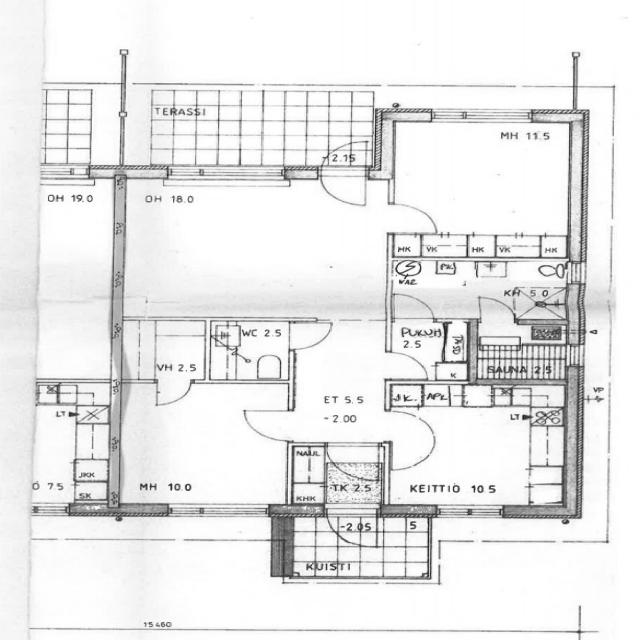door: (317, 154, 369, 208), (382, 200, 442, 236), (239, 406, 294, 442), (382, 408, 436, 442), (286, 319, 335, 352), (387, 291, 436, 323), (382, 349, 427, 382), (472, 295, 518, 325), (151, 379, 194, 408), (330, 519, 364, 546)
window: (163, 164, 286, 192), (160, 501, 273, 521), (436, 107, 535, 125), (41, 163, 97, 188), (433, 503, 508, 521), (28, 503, 72, 517)
zone: (122, 169, 386, 321), (389, 120, 572, 318), (386, 382, 572, 509), (118, 385, 290, 509), (393, 258, 570, 318), (36, 384, 116, 506), (118, 318, 211, 383), (470, 322, 571, 381), (384, 319, 471, 380), (210, 320, 290, 382), (384, 200, 441, 236), (388, 382, 464, 407), (290, 442, 325, 484), (290, 482, 326, 506), (388, 234, 422, 259)
